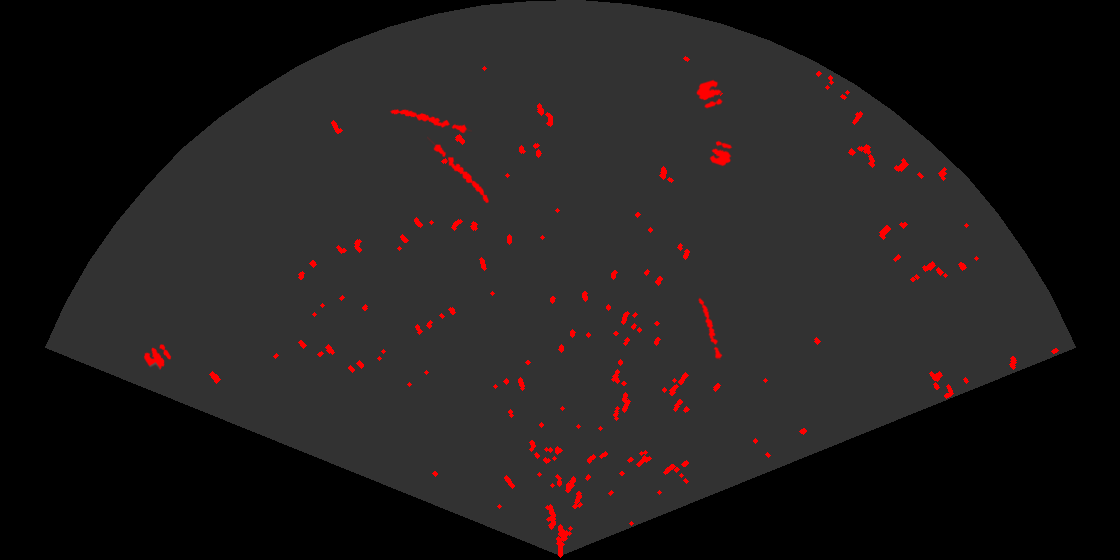ball: (695, 78, 724, 110), (142, 343, 173, 371), (708, 139, 734, 168)
chain: (427, 135, 491, 205), (388, 108, 472, 135), (697, 295, 724, 360)
